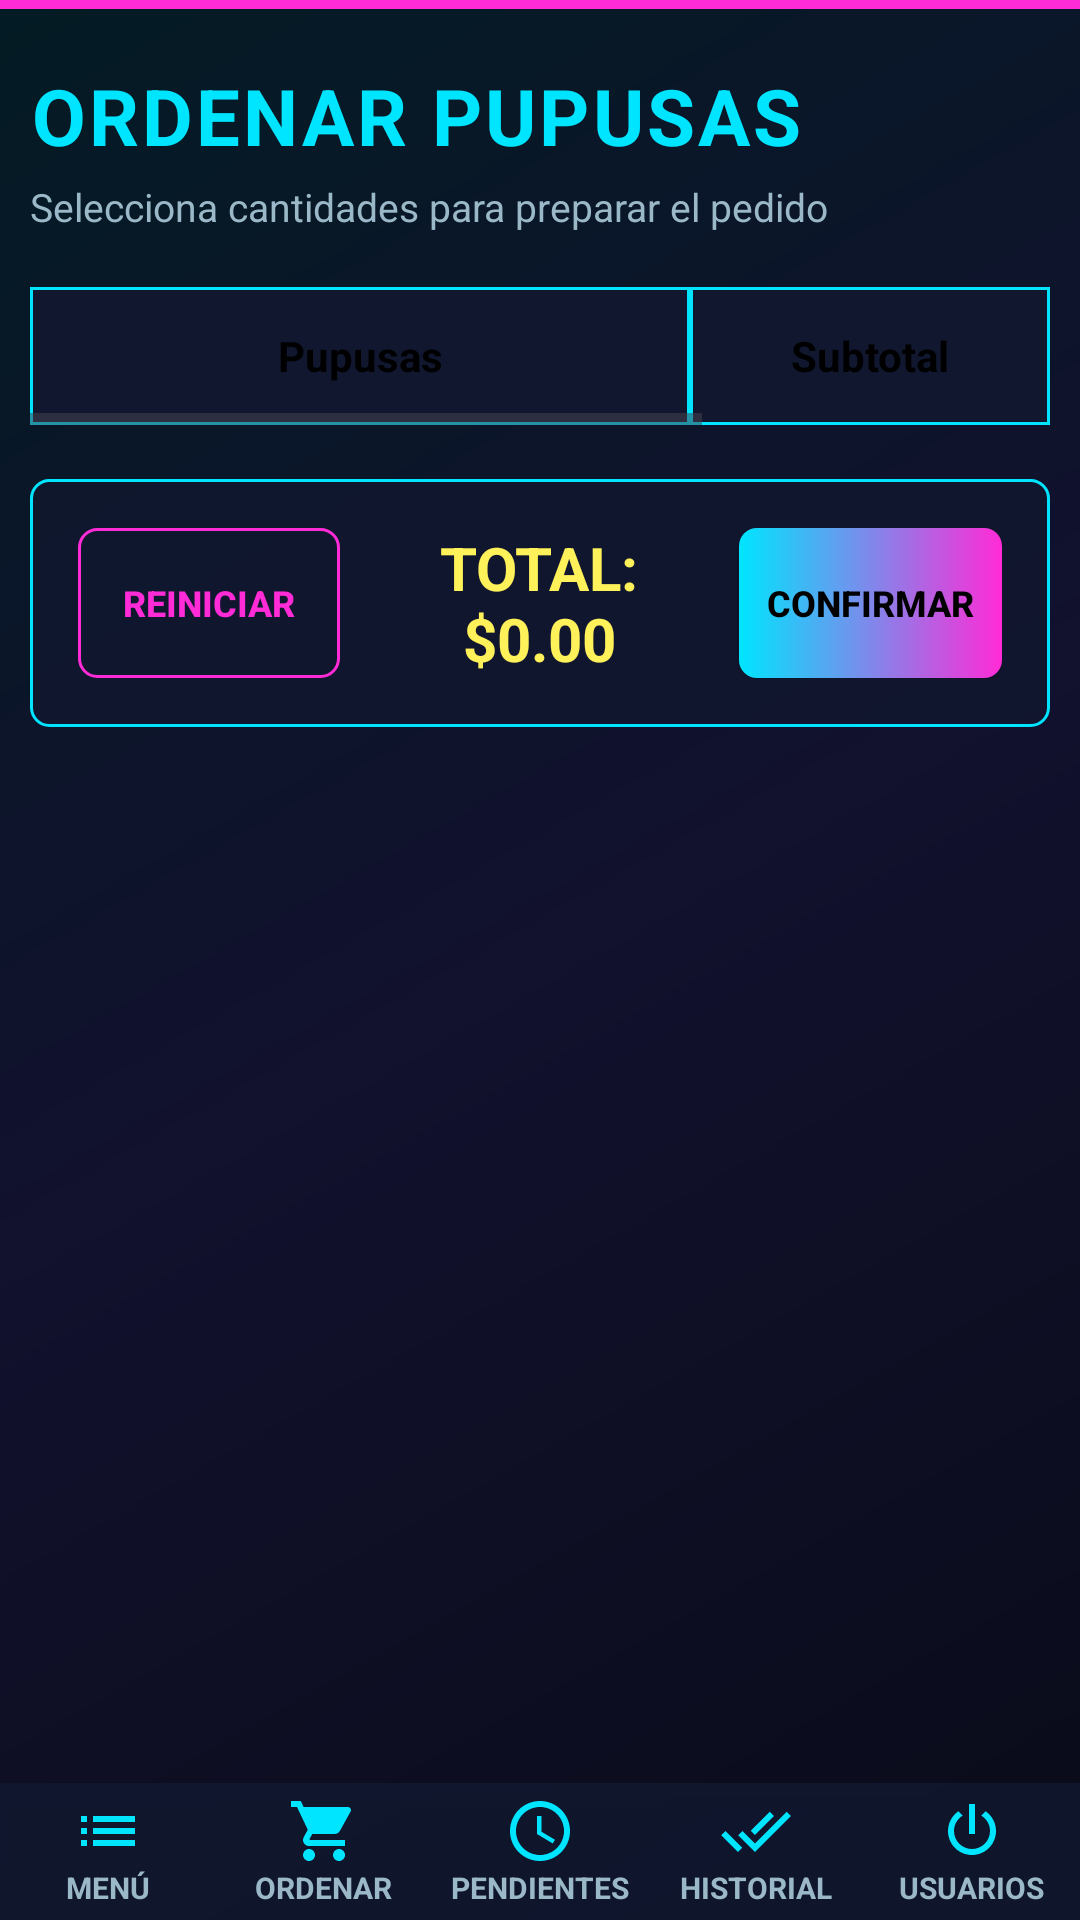

Named icons in this screenshot (1080px×1920px) and their bounding boxes, (x1, y1, x2, y2):
delivered: (721, 1812, 791, 1852)
power: (948, 1804, 996, 1855)
